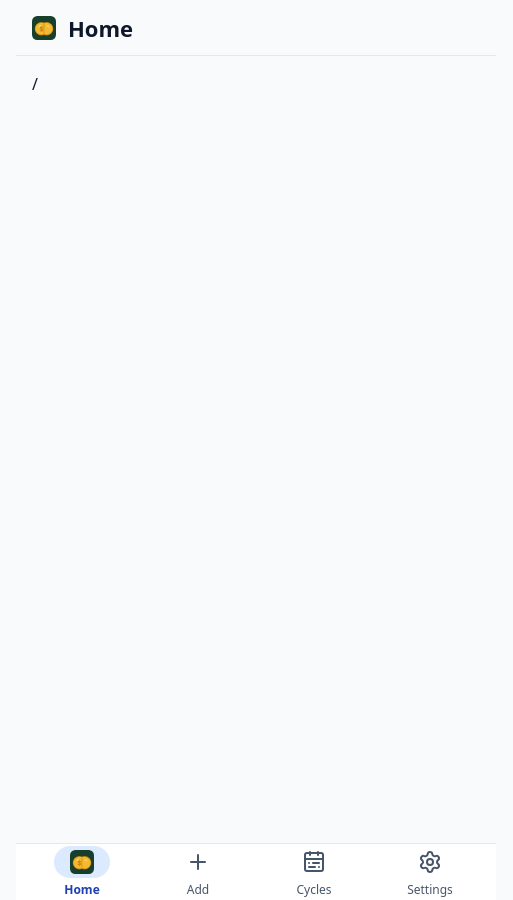
tab bar › announces the current tab, and only that one
Click the link "Cycles" at (314, 872), box [286,846,342,898]
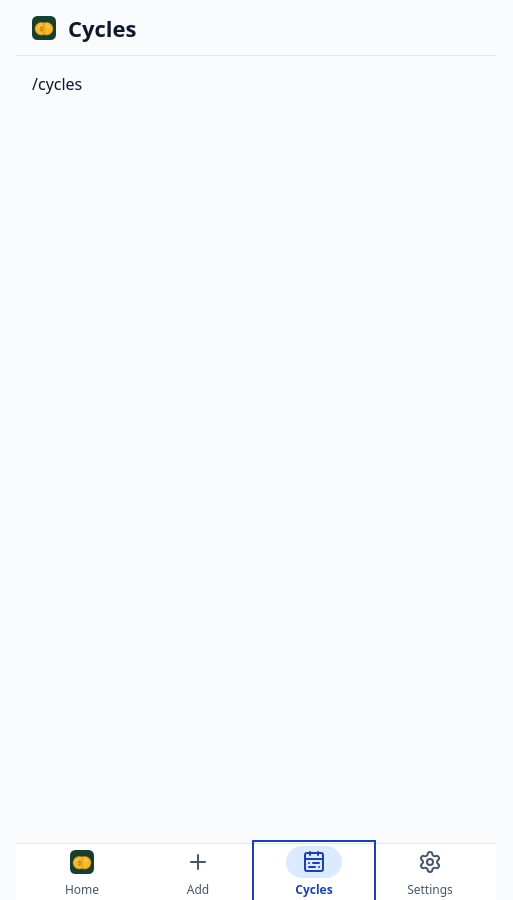
Now the heading "Cycles" is shown, box [68,12,136,42]
